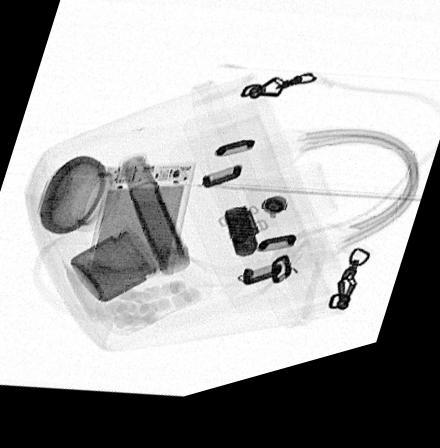Powerbank: (83, 170, 193, 284)
